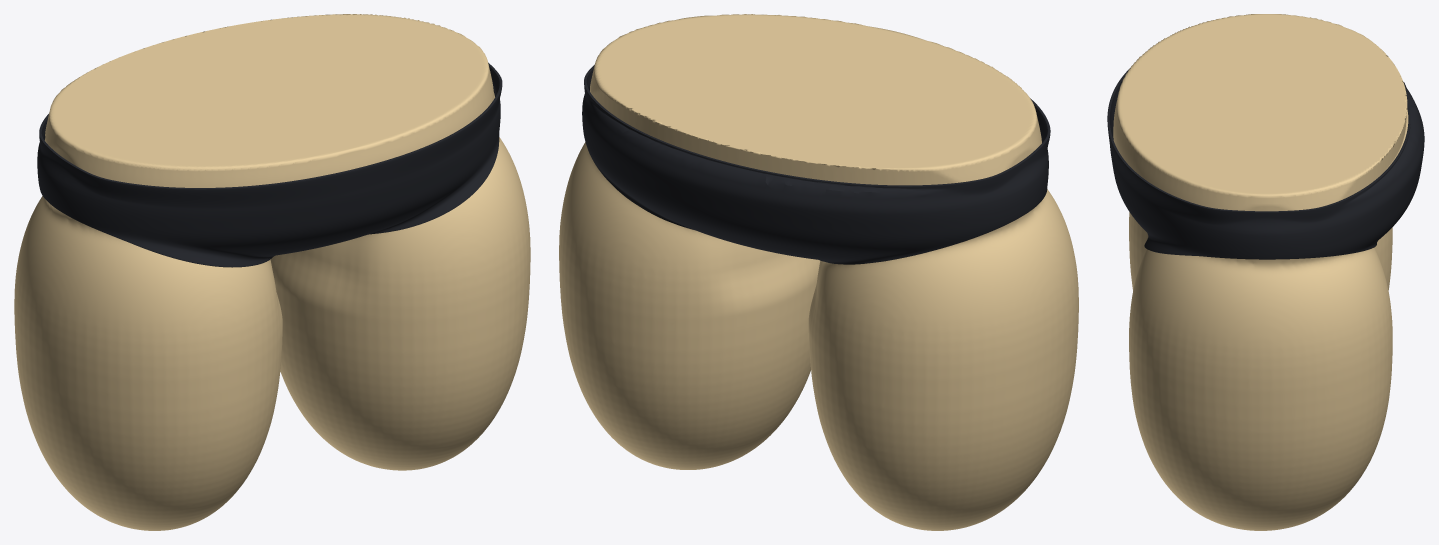
File: Feminine-bikini-bottom.glb
3 views of the same model, side by side, from view 1: azimuth 30°, elevation 25°; view 2: azimuth 150°, elevation 25°; view 3: azimuth 270°, elevation 25° (orthographic). The views are drawn at different scales.
Visible parts, largest first — view 1: Skin / bikini lower body201, Bottom / continuous bikini202; view 2: Skin / bikini lower body201, Bottom / continuous bikini202; view 3: Skin / bikini lower body201, Bottom / continuous bikini202.
Boxes of the visible parts, bbox=[...] form: Skin / bikini lower body201: bbox=[14, 14, 530, 530]; Bottom / continuous bikini202: bbox=[37, 62, 502, 267]; Skin / bikini lower body201: bbox=[559, 14, 1078, 530]; Bottom / continuous bikini202: bbox=[582, 65, 1050, 264]; Skin / bikini lower body201: bbox=[1113, 14, 1408, 530]; Bottom / continuous bikini202: bbox=[1107, 68, 1424, 259].
Bounding box in the file's own units: 0.6363 × 0.506 × 0.4024.
